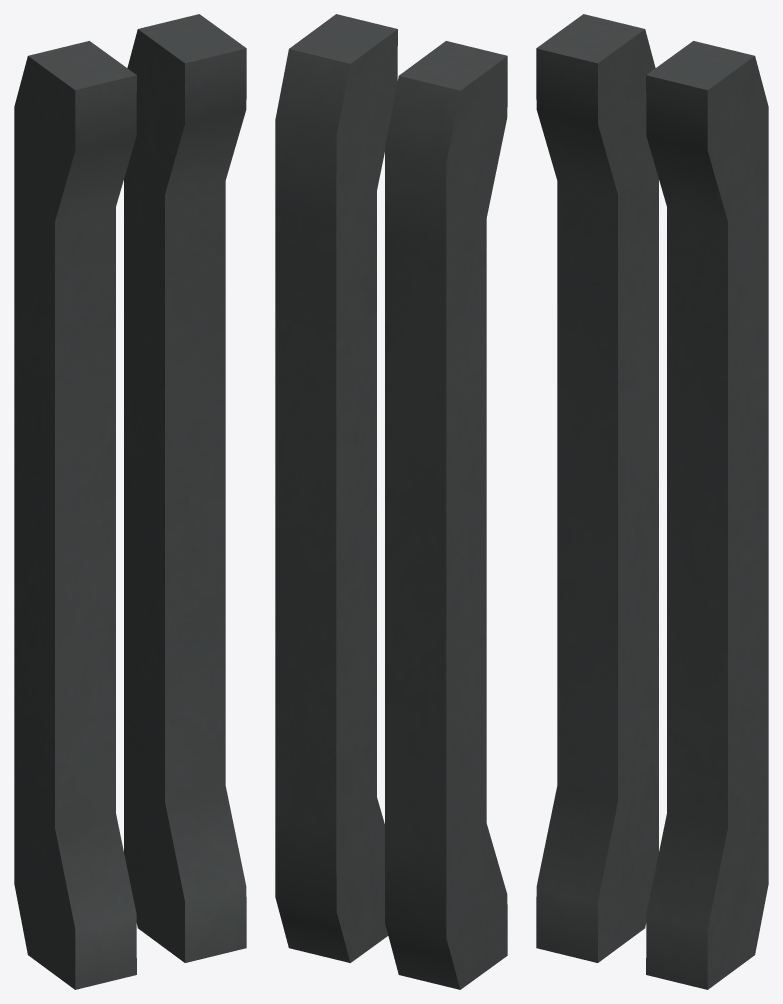
File: Pfb_JALB_WallPart.fbx
3 renders of one model, left to right at view 1: azimuth 30°, elevation 25°; view 2: azimuth 150°, elevation 25°; view 3: azimuth 330°, elevation 25°, orthographic.
Parts seen in each view (by area): view 1: MAT_RoofDark; view 2: MAT_RoofDark; view 3: MAT_RoofDark.
Part boxes in pixels (<box>): MAT_RoofDark: <box>14,14,246,989</box>; MAT_RoofDark: <box>275,14,507,989</box>; MAT_RoofDark: <box>536,14,768,989</box>.
Bounding box in the file's own units: 0.7961 × 3.99 × 0.4921.
1 material, 1 textured.
